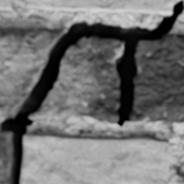brick: (21, 134, 169, 183), (26, 0, 172, 14), (0, 131, 12, 183), (0, 0, 11, 9)
broken_brick: (30, 37, 123, 121), (0, 28, 66, 116), (129, 34, 183, 121)
crack: (2, 0, 183, 183)
